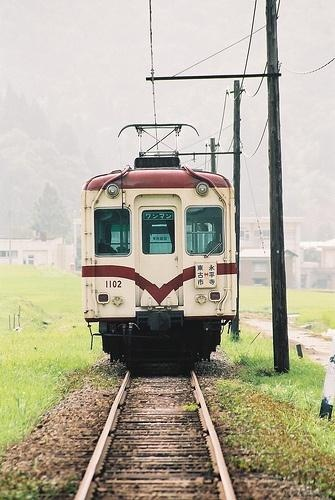train: (83, 124, 239, 377)
